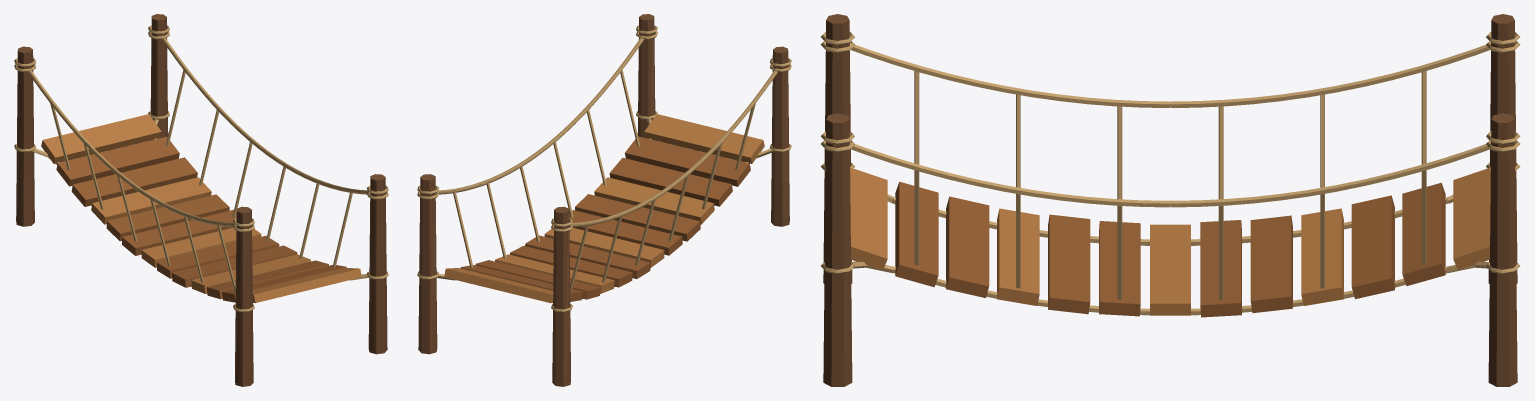
The model's file is 09_rope_bridge.fbx.
3 renders of one model, left to right at view 1: azimuth 30°, elevation 25°; view 2: azimuth 150°, elevation 25°; view 3: azimuth 270°, elevation 25°, orthographic. The views are drawn at different scales.
Parts seen in each view (by area): view 1: 09_rope_bridge; view 2: 09_rope_bridge; view 3: 09_rope_bridge.
Boxes of the visible parts, x1,y1,x2,y2 form: 09_rope_bridge: [14, 14, 388, 386]; 09_rope_bridge: [417, 14, 791, 386]; 09_rope_bridge: [820, 14, 1520, 386].
Size of the model in its own units: 1.91 by 2.05 by 4.95.
Materials: 1 (1 with a texture image).
